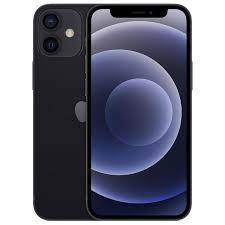Smartphone: (89, 6, 194, 217), (40, 5, 115, 219)
